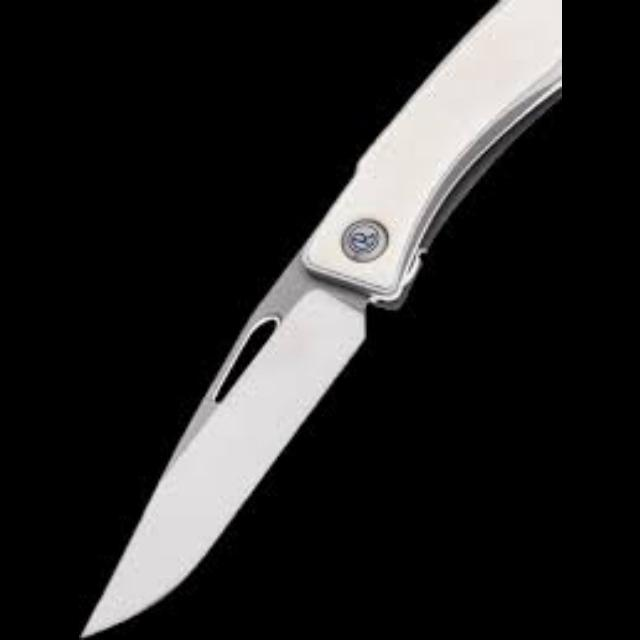knife: (78, 0, 560, 638)
